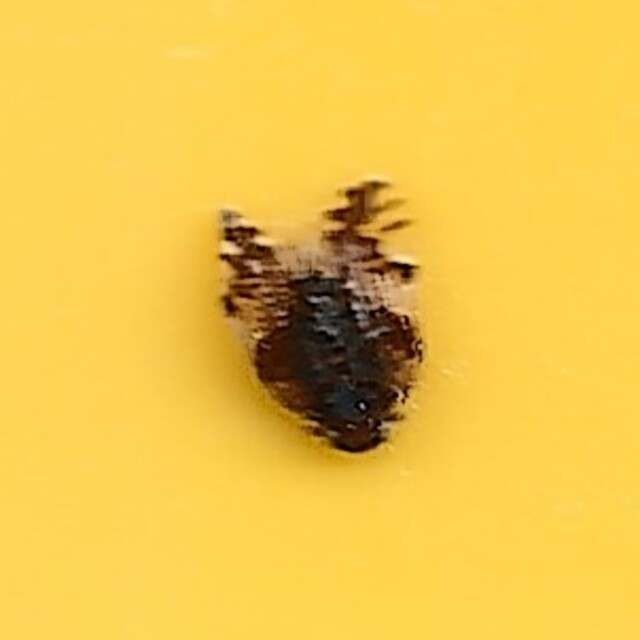Hemiptera: (212, 178, 428, 462)
